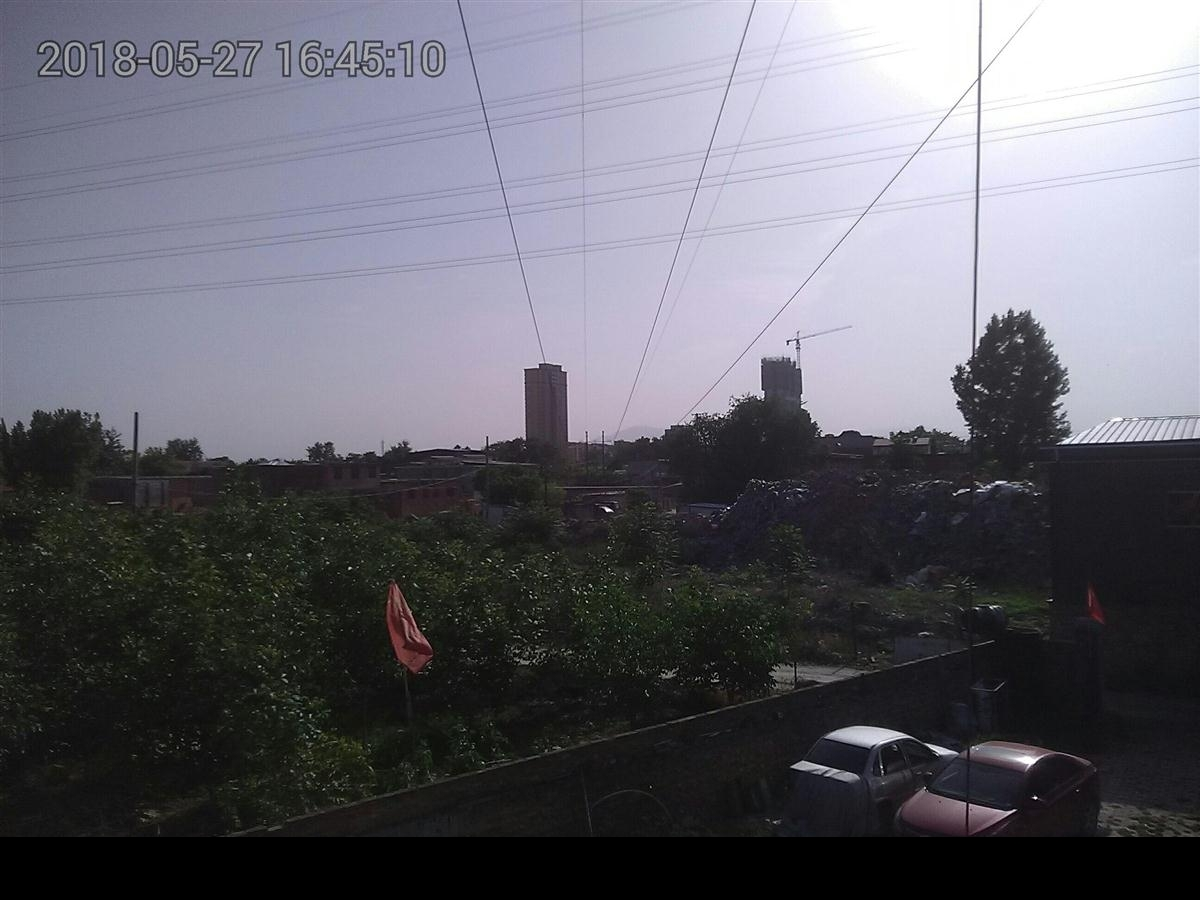TaDiao: (785, 324, 848, 350)
